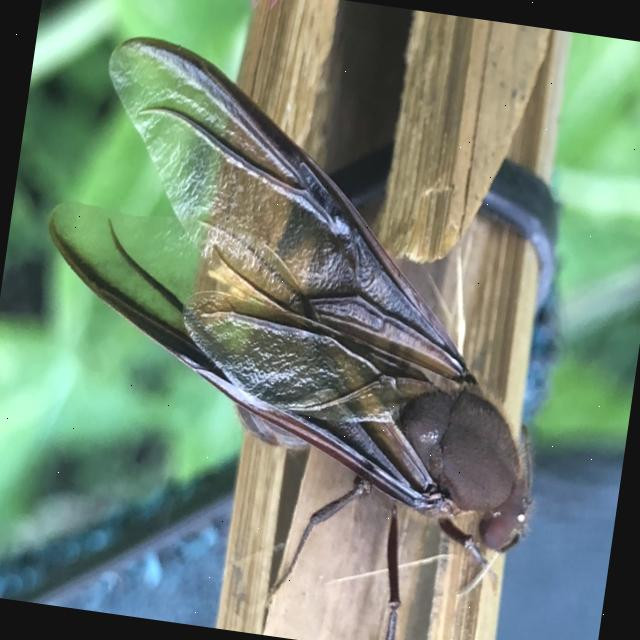Alive-Female-Alate: (0, 26, 596, 640)
